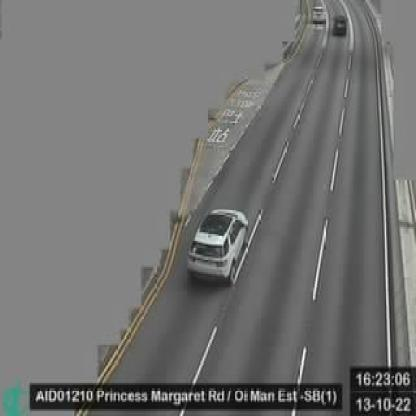Car: (186, 206, 249, 285), (332, 15, 348, 36), (311, 5, 326, 25)
